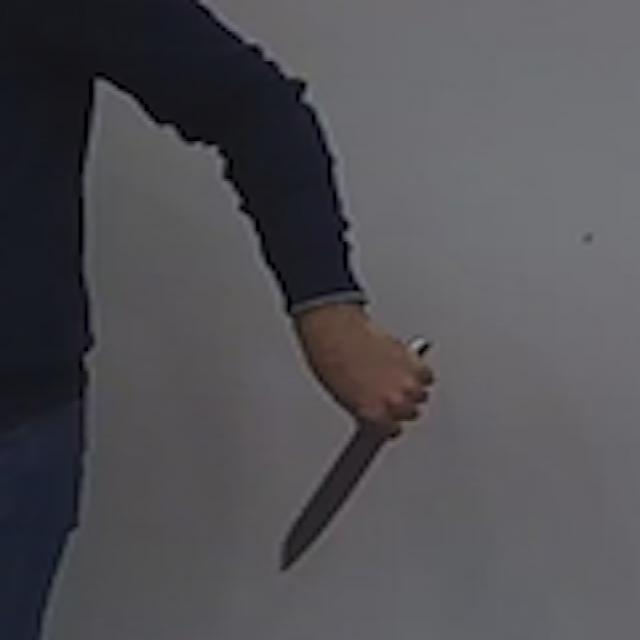suspicion: (61, 4, 448, 604), (278, 435, 396, 581), (412, 329, 442, 358)
